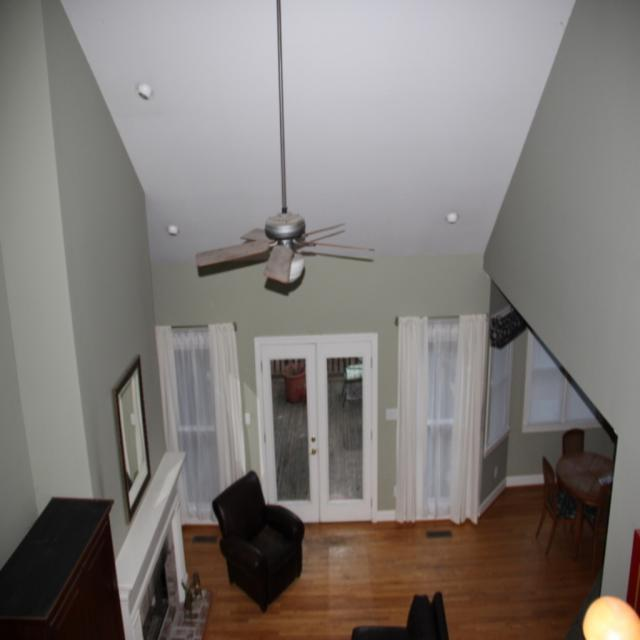fan_off: (192, 0, 376, 286)
